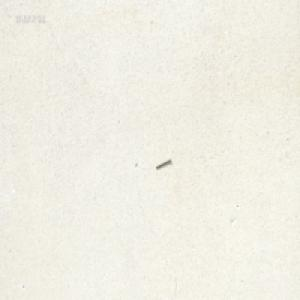Bolt: (155, 154, 171, 166)
